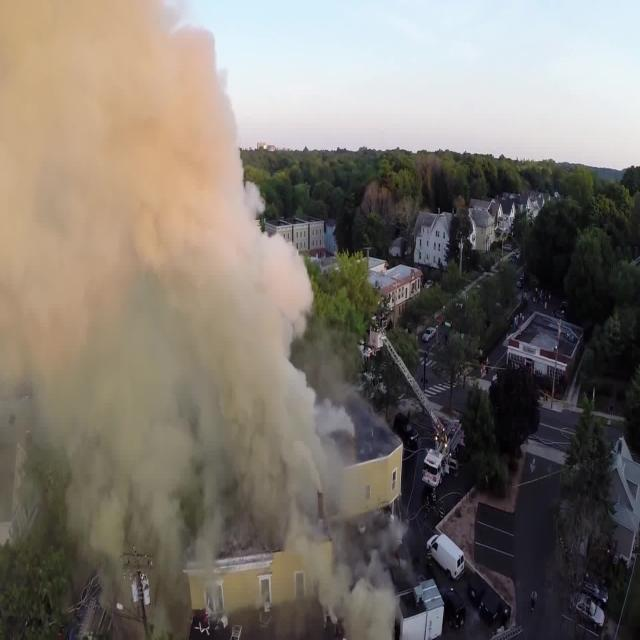Smoke: (0, 0, 293, 520)
